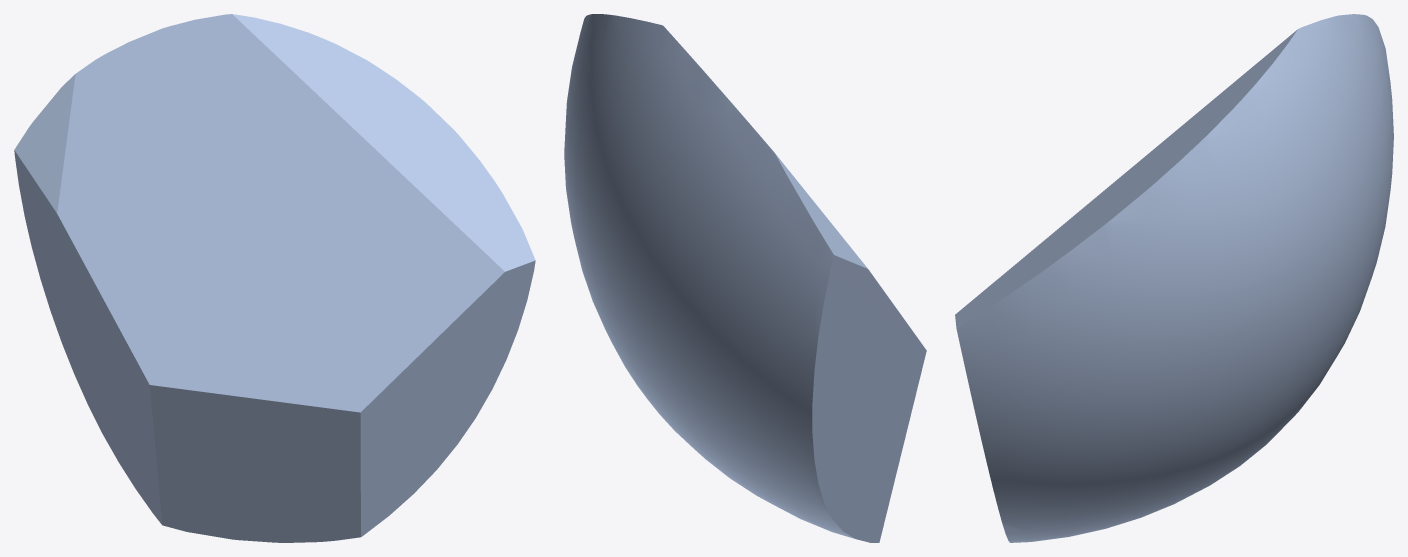
File: Ball2_4.fbx
The picture shows the model from 3 angles, left to right: view 1: azimuth 30°, elevation 25°; view 2: azimuth 150°, elevation 25°; view 3: azimuth 270°, elevation 25°; orthographic projection. The views are drawn at different scales.
Parts seen in each view (by area): view 1: Cube_cell.060; view 2: Cube_cell.060; view 3: Cube_cell.060.
Part boxes in pixels (x1,y1,x2,y2): Cube_cell.060: (14, 14, 535, 542); Cube_cell.060: (564, 14, 926, 542); Cube_cell.060: (955, 14, 1393, 542).
Bounding box in the file's own units: 96.47 × 122 × 91.94.
